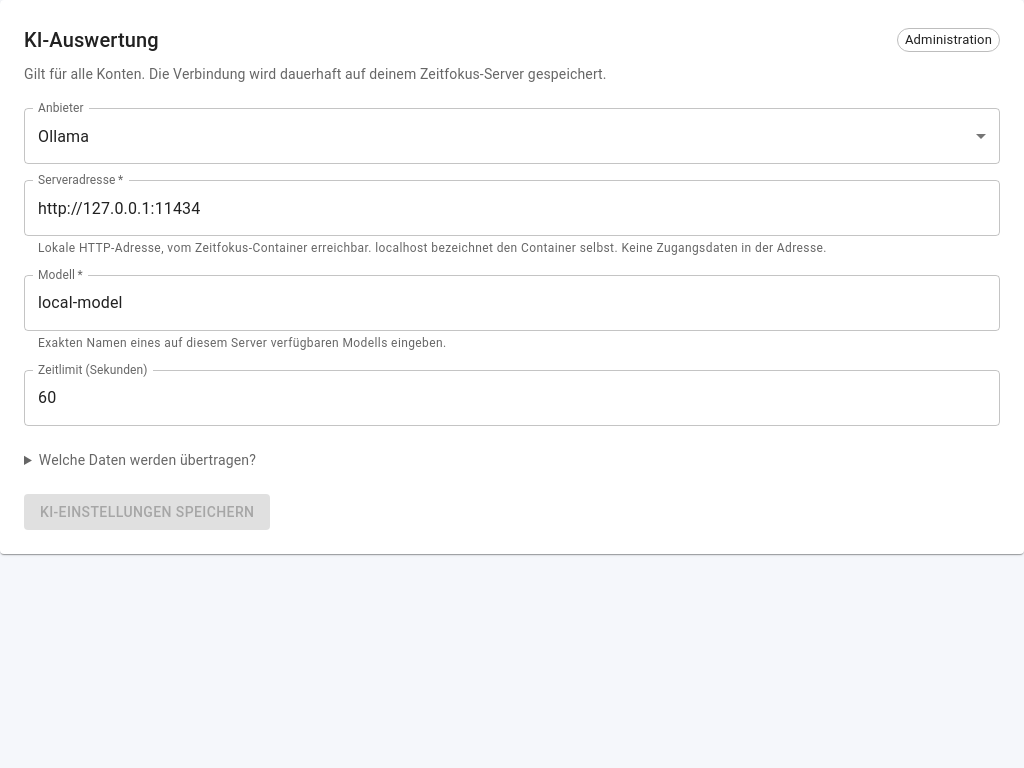
Test: save failure remains visible and retains the draft for retry
Select "LM Studio" in the dropdown labelled "Anbieter": coordinates (512, 136) [24, 108, 1000, 164]
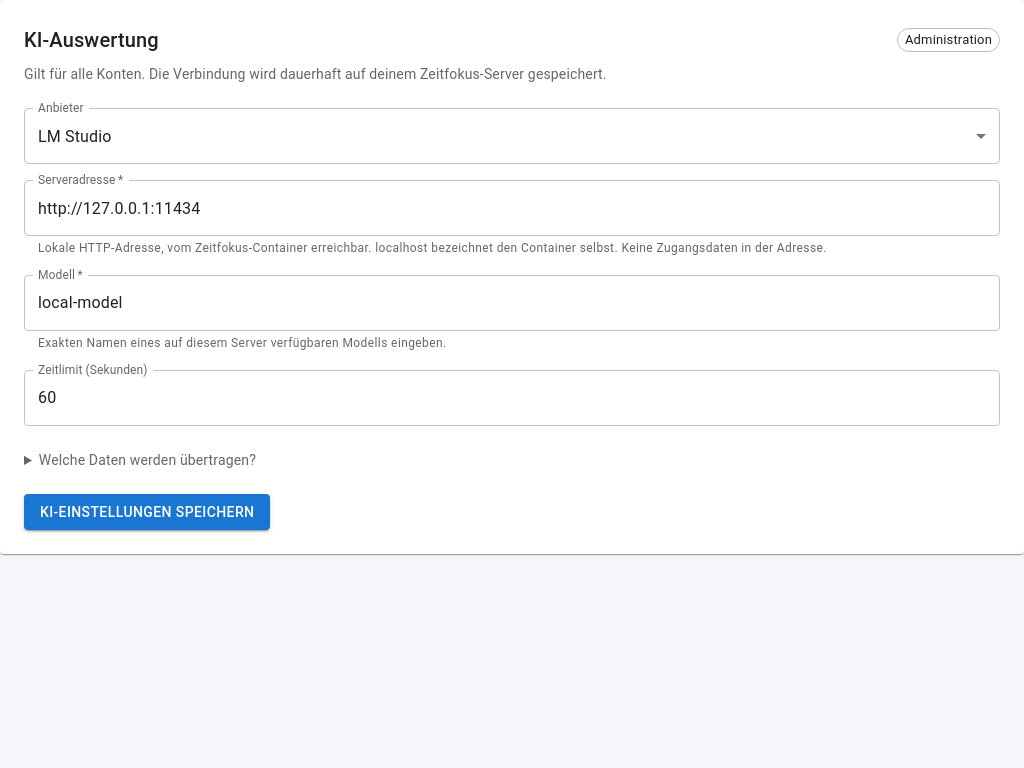
Submit the form, box [24, 108, 1000, 530]
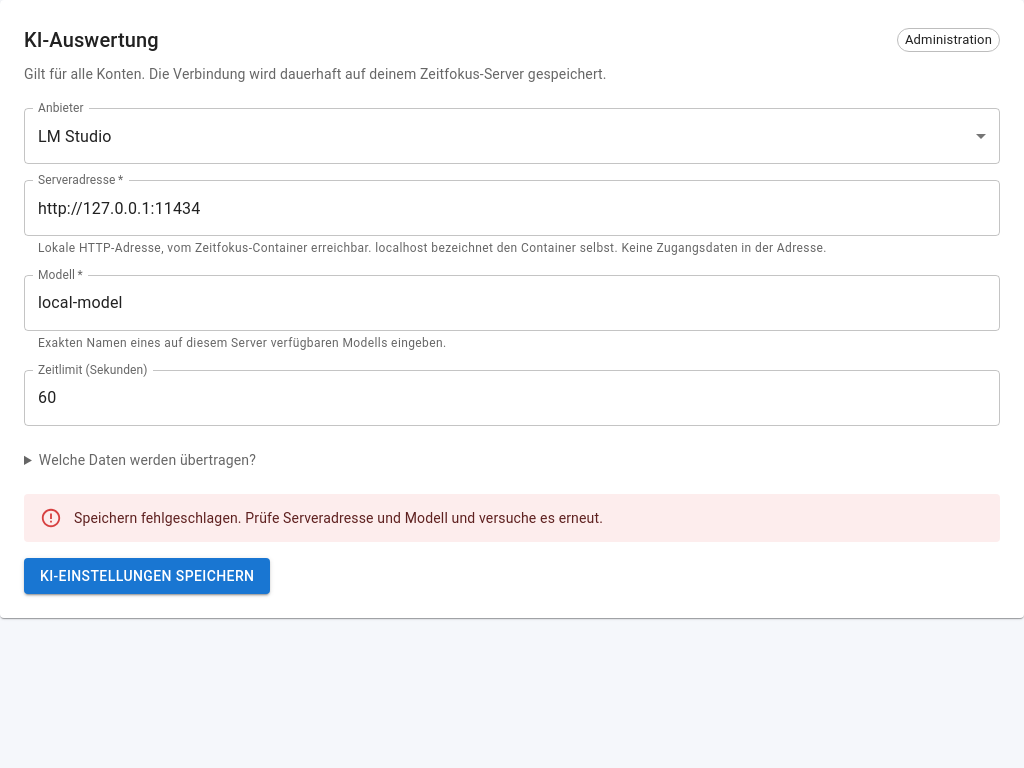
Check: the button "KI-Einstellungen speichern" is enabled, box [24, 558, 270, 594]
Check: the text "Speichern fehlgeschlagen." is shown, box [74, 510, 603, 526]
